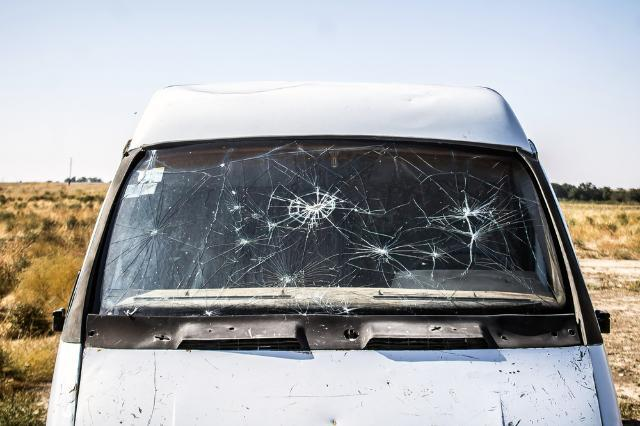dent: (179, 82, 311, 96)
glass shatter: (100, 139, 568, 317)
scratch: (75, 348, 604, 426)
